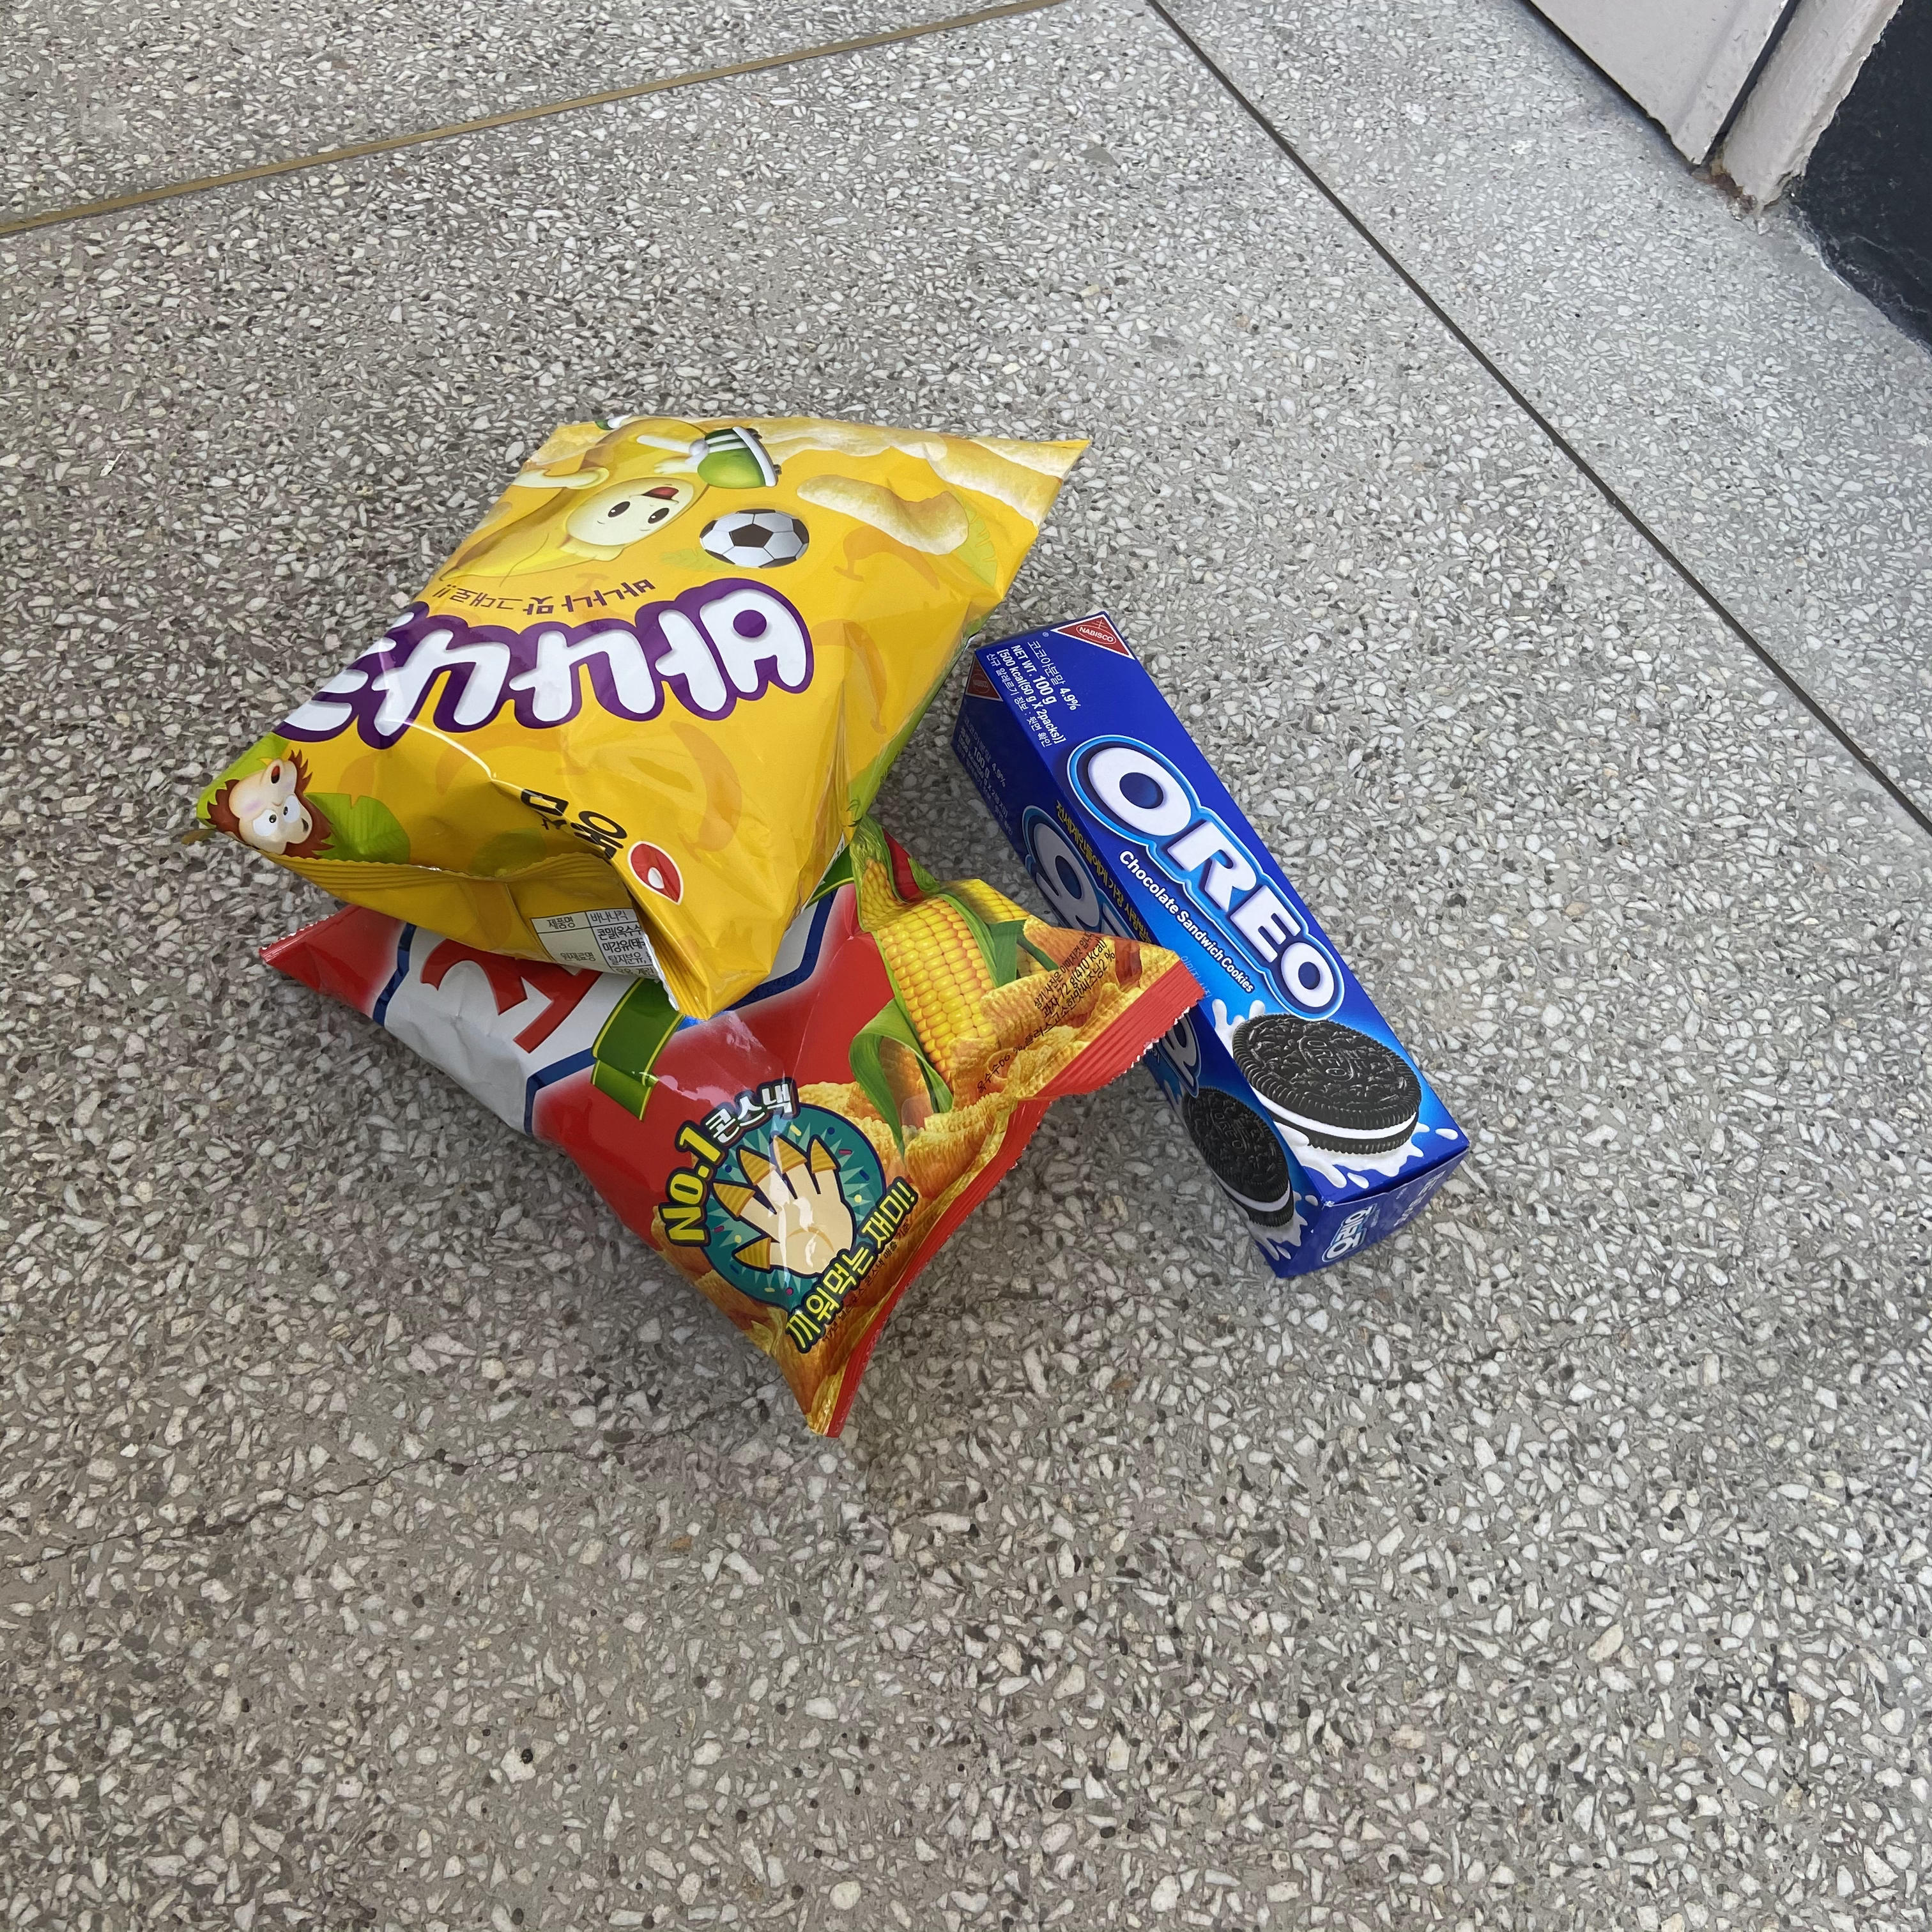banana: (168, 405, 1108, 1028)
ggoggalcon: (234, 798, 1210, 1458)
oreo: (936, 573, 1484, 1295)
